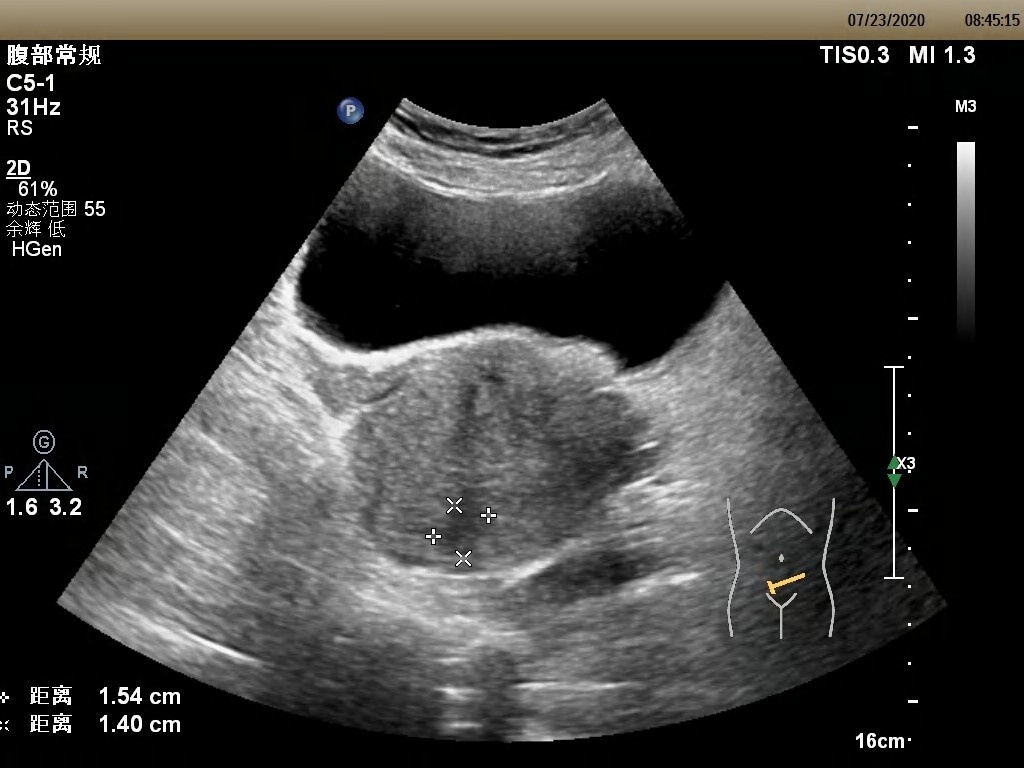肌瘤: (441, 499, 483, 548)
